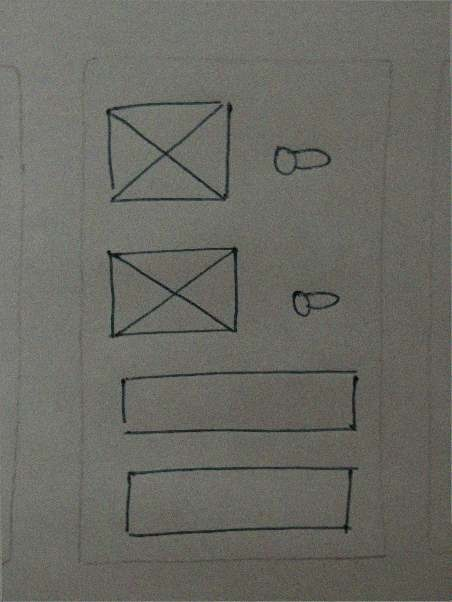image: (97, 93, 242, 215), (97, 242, 245, 342)
switch: (266, 134, 339, 187), (284, 278, 344, 326)
text_input: (113, 362, 362, 443), (111, 461, 365, 538)
